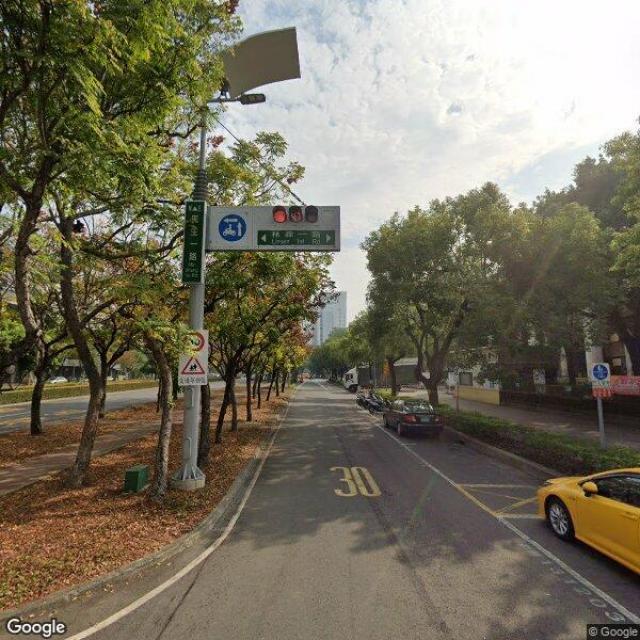Legalparking: (538, 468, 639, 573), (359, 393, 442, 435)
